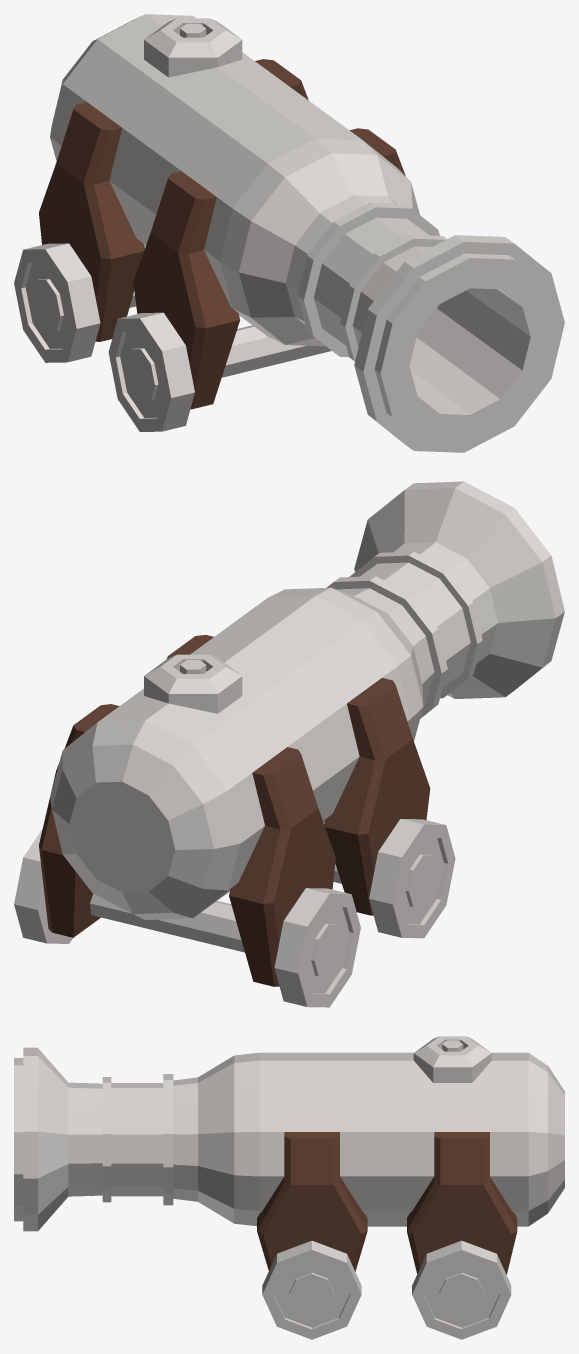
Rendered from Canon.fbx.
3 views of the same model, one above another, from view 1: azimuth 30°, elevation 25°; view 2: azimuth 150°, elevation 25°; view 3: azimuth 270°, elevation 25° (orthographic). The views are drawn at different scales.
Parts seen in each view (by area): view 1: Canon; view 2: Canon; view 3: Canon.
Part boxes in pixels (left/top/right/bottom): Canon: left=14, top=14, right=564, bottom=452; Canon: left=14, top=481, right=564, bottom=1007; Canon: left=14, top=1036, right=564, bottom=1339.
Bounding box in the file's own units: 0.9209 × 0.9405 × 1.95.
